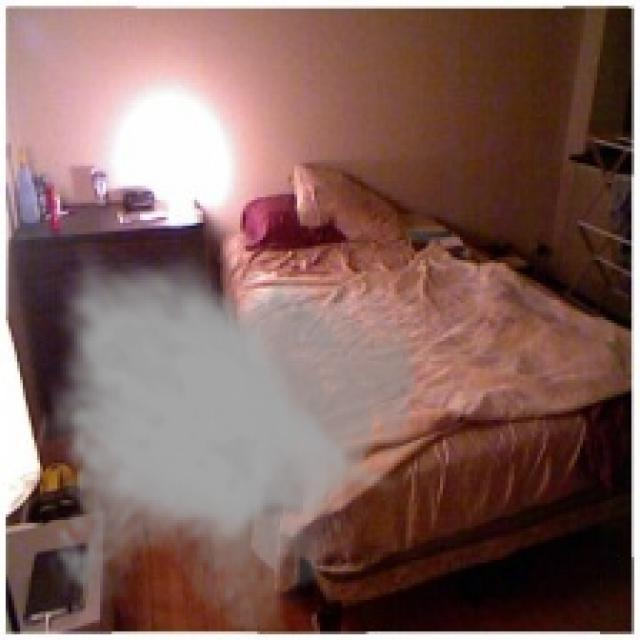Smoke: (43, 242, 423, 634)
